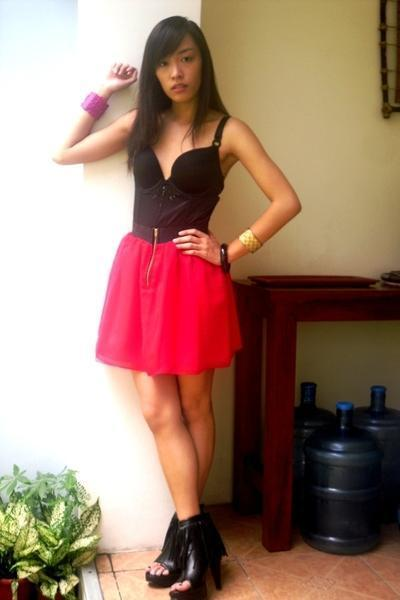shirt: (132, 132, 224, 248)
shoe: (146, 504, 227, 599)
skirt: (96, 232, 241, 378)
